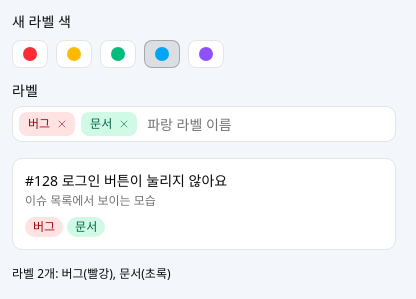
colour labels: a new label takes the colour chosen before adding it
Expected: the message reads "라벨 2개: 버그(빨강), 문서(초록)", left=12, top=265, right=170, bottom=282
Click the radio button named "보라". click: (206, 54)
box: left=188, top=40, right=224, bottom=68
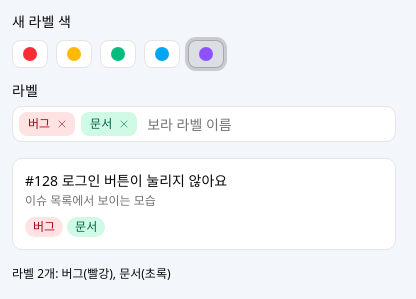
Expected: the field labelled "라벨" has attribute placeholder="보라 라벨 이름"
Type "디자인" into the field labelled "라벨". click: (266, 124)
box: left=143, top=112, right=389, bottom=136
Then press Enter
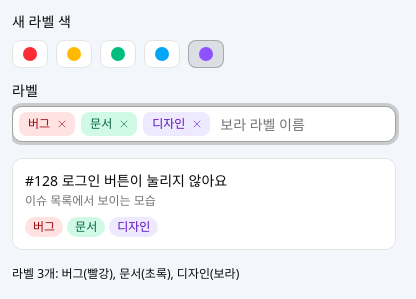
Expected: the message shows "디자인(보라)", left=55, top=265, right=239, bottom=282
Note: changing the colour later leaves existing labels alone
Click the radio button named "노랑". click: (74, 54)
box: left=56, top=40, right=92, bottom=68
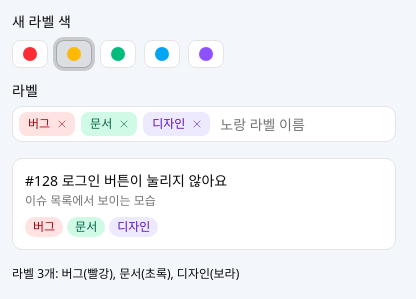
Type "급함" into the field labelled "라벨". click: (303, 124)
box: left=216, top=112, right=389, bottom=136
Then press Enter
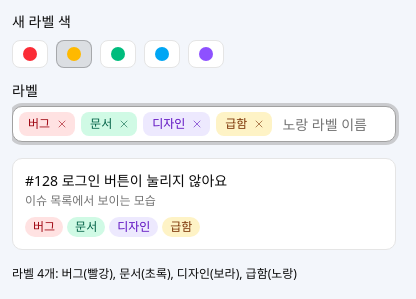
Expected: the message reads "라벨 4개: 버그(빨강), 문서(초록), 디자인(보라), 급함(노랑)", left=12, top=265, right=297, bottom=282
